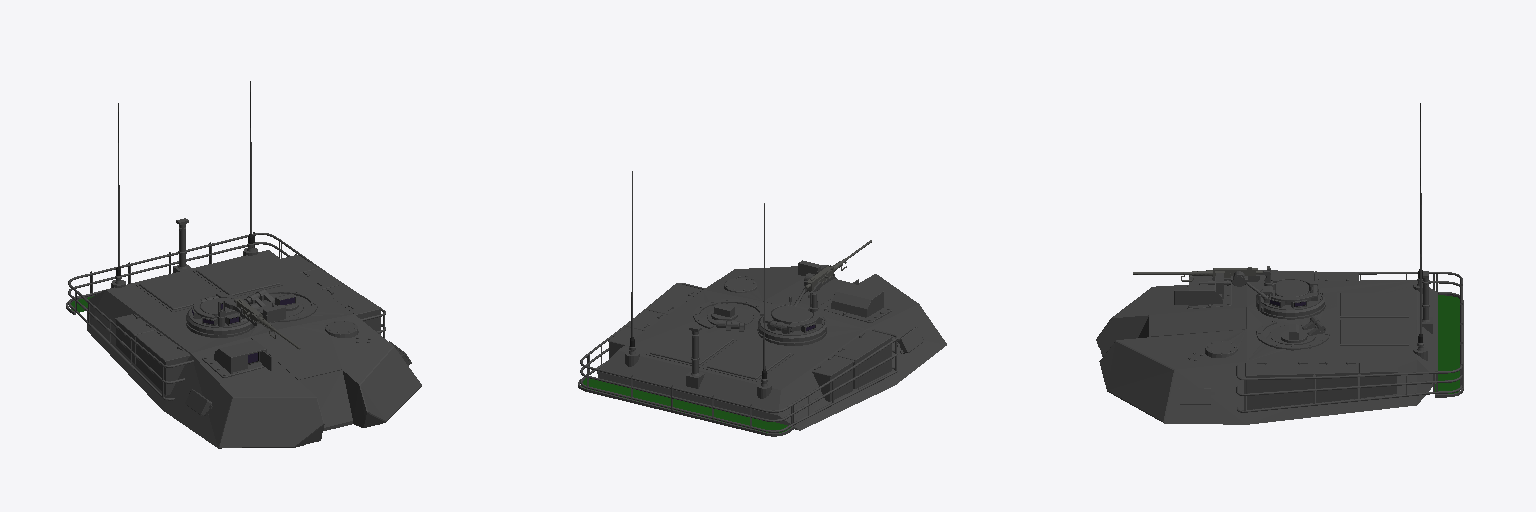
Rendered from tank_head.obj.
3 renders of one model, left to right at view 1: azimuth 30°, elevation 25°; view 2: azimuth 150°, elevation 25°; view 3: azimuth 270°, elevation 25°, orthographic.
Size of the model in its own units: 1.45 by 1.49 by 2.06.